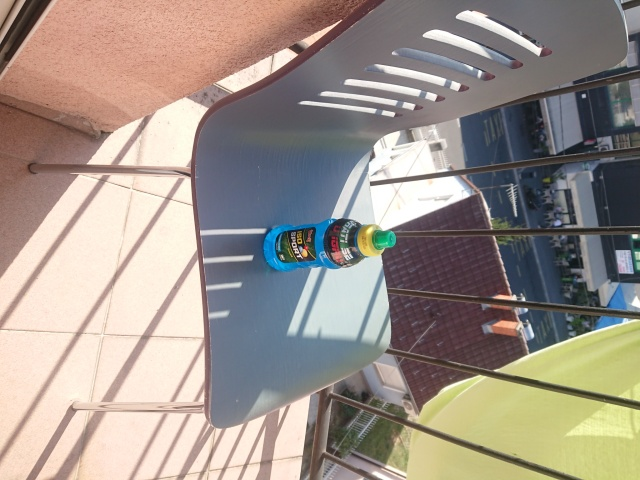Vindi Iso Sport Forest Strawberries 500mL: (261, 216, 398, 272)
